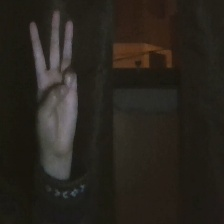W: (19, 1, 88, 164)
